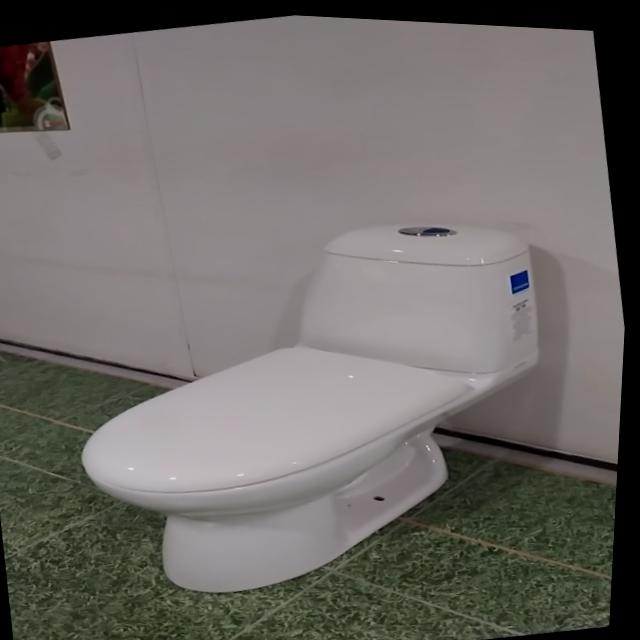toilet: (47, 183, 584, 625)
